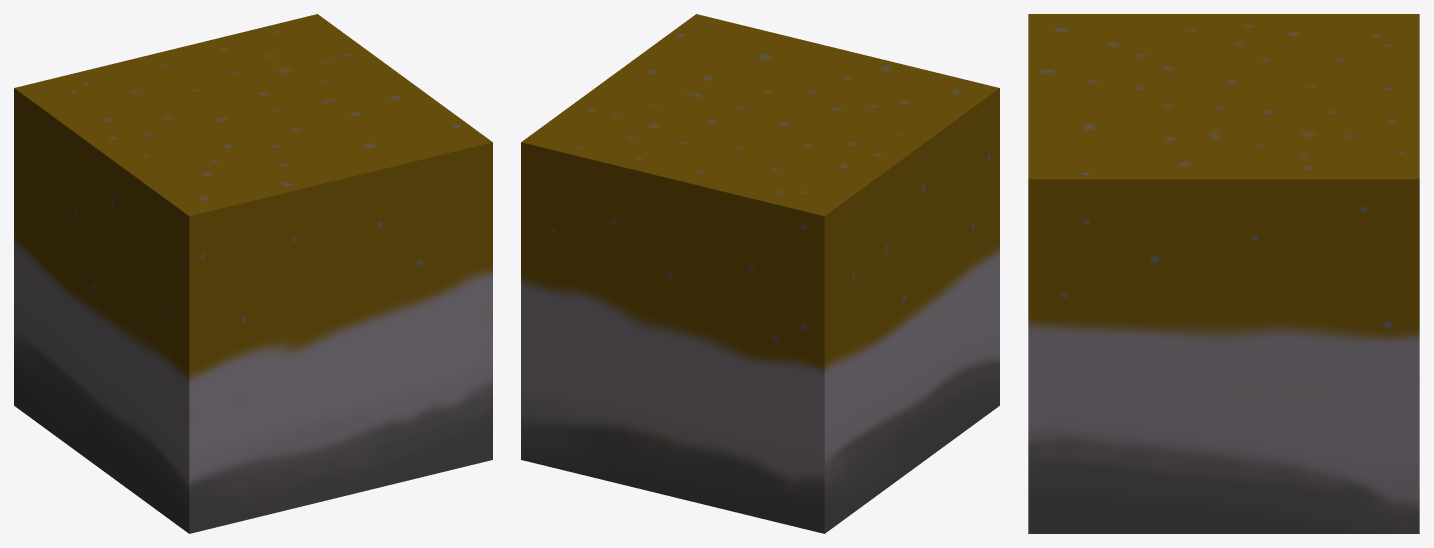
File: mountain.glb
3 views of the same model, side by side, from view 1: azimuth 30°, elevation 25°; view 2: azimuth 150°, elevation 25°; view 3: azimuth 270°, elevation 25° (orthographic). The views are drawn at different scales.
Visible parts, largest first — view 1: Block_Grass; view 2: Block_Grass; view 3: Block_Grass.
Boxes of the visible parts, box(x1,y1,x2,y2) form: Block_Grass: box(14, 14, 492, 533); Block_Grass: box(521, 14, 999, 533); Block_Grass: box(1028, 14, 1419, 533).
Size of the model in its own units: 2 by 2 by 2.
1 material, 1 textured.
